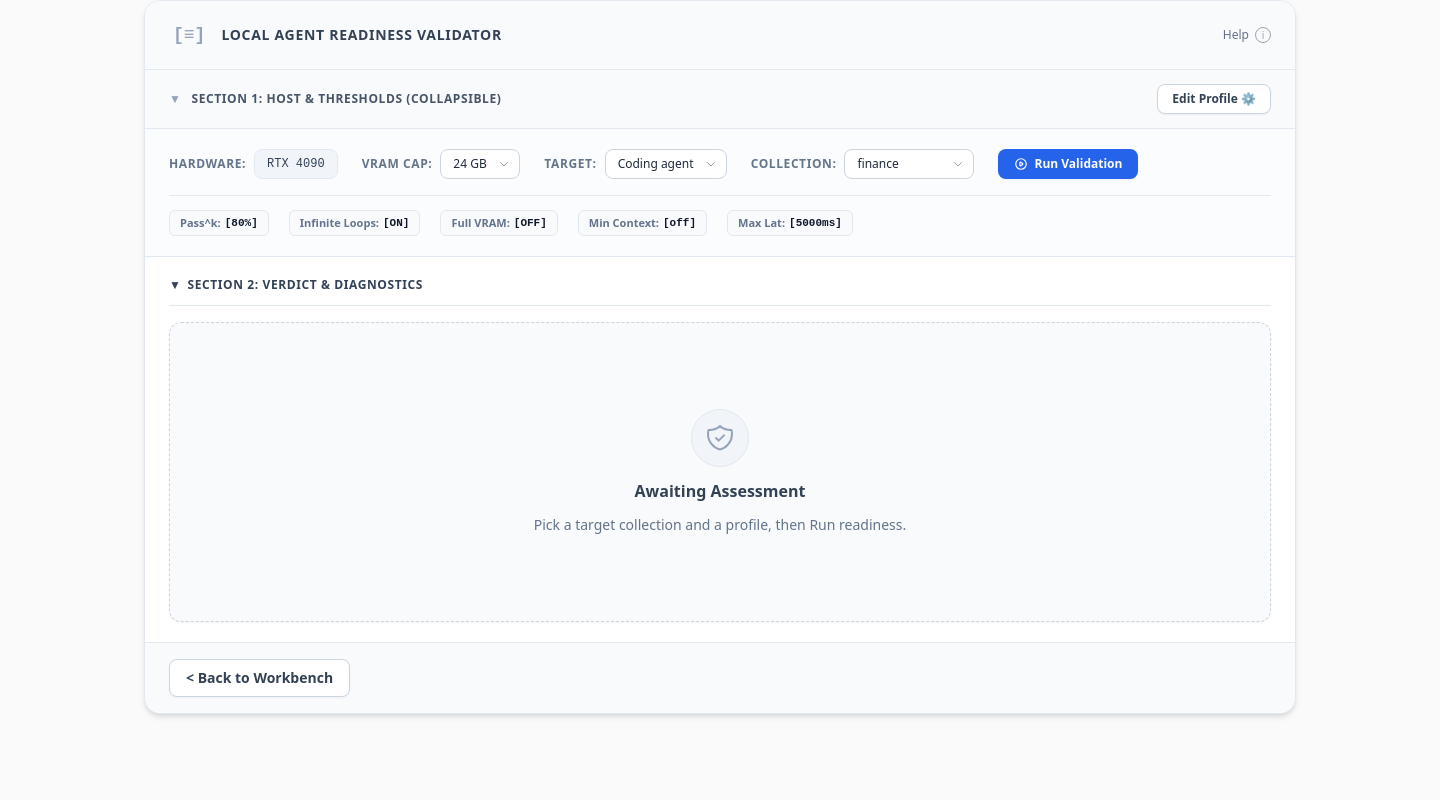
it: AgentReportPage › assesses the selected collection + profile and renders the verdict table
Expected: the dropdown with test id "readiness-profile-select" is shown, [605, 149, 727, 179]
Step 1. Click the button with test id "readiness-run" → (1068, 164), box [998, 149, 1138, 179]
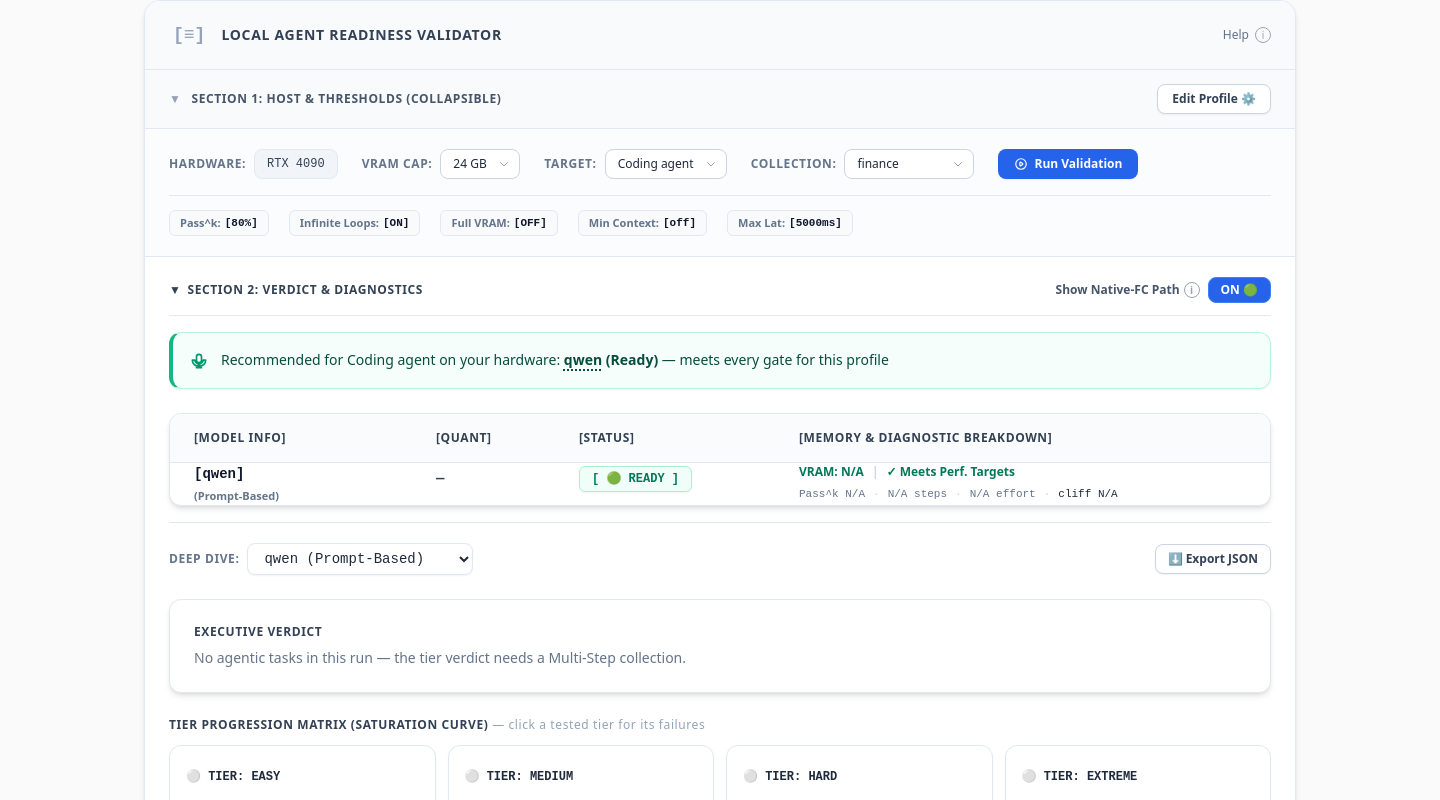
Now the element with test id "readiness-verdict-table" is shown, box [169, 413, 1271, 506]
